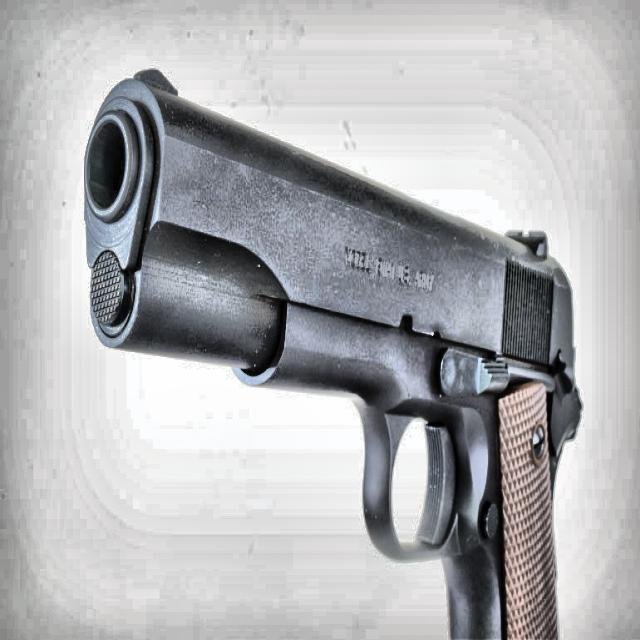Colt m1911: (82, 66, 582, 638)
